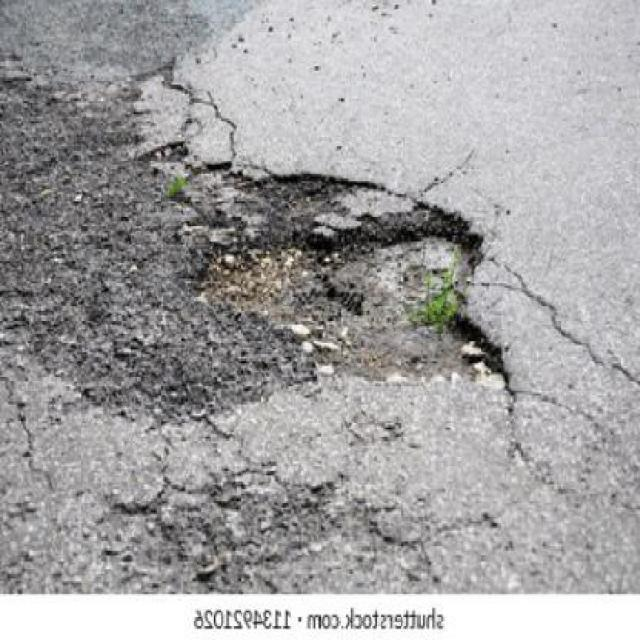Pothole: (0, 0, 513, 426)
